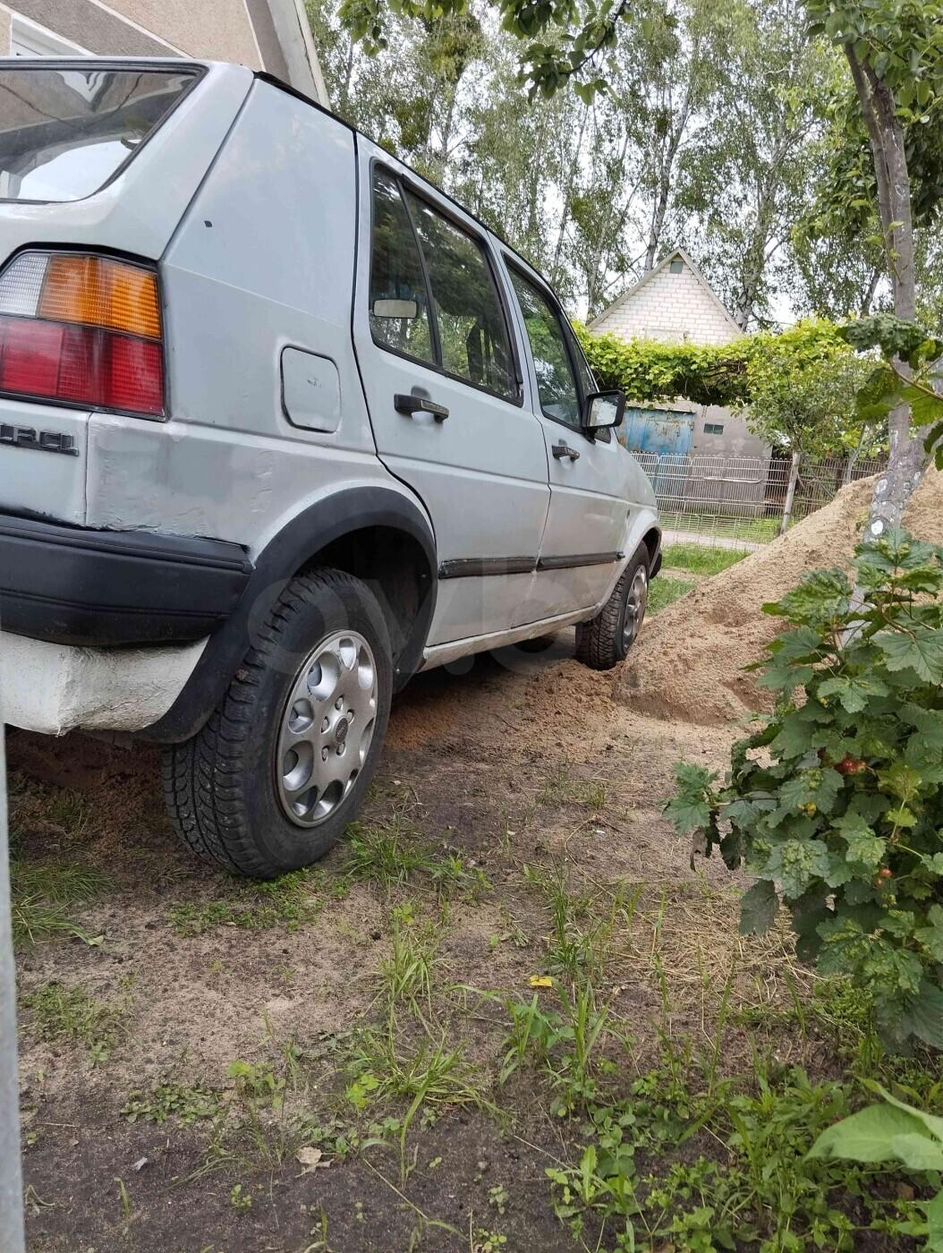Golf_1983-1992: (0, 43, 682, 881)
